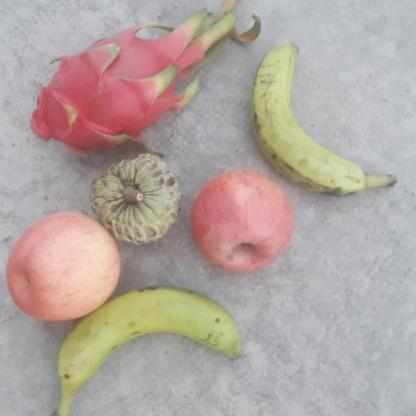annona: (86, 148, 180, 247)
apple: (4, 206, 121, 324), (190, 166, 294, 275)
banana: (52, 283, 244, 414), (250, 38, 373, 194)
pitaya: (28, 27, 180, 150)
